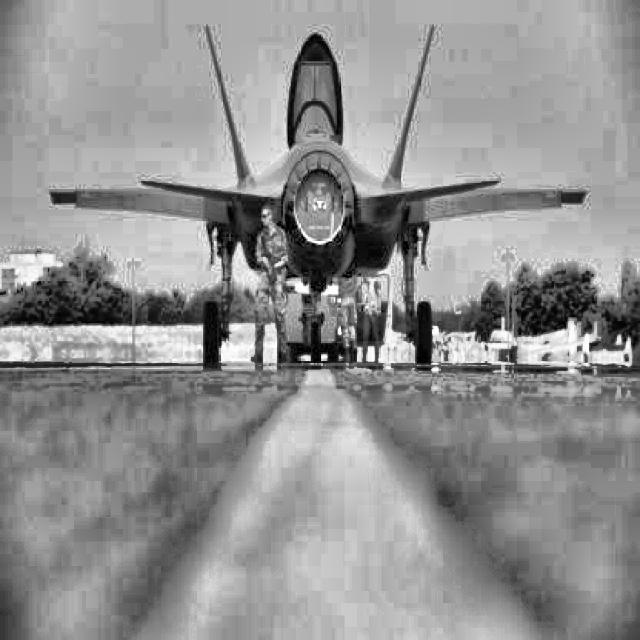F35: (47, 23, 587, 366)
